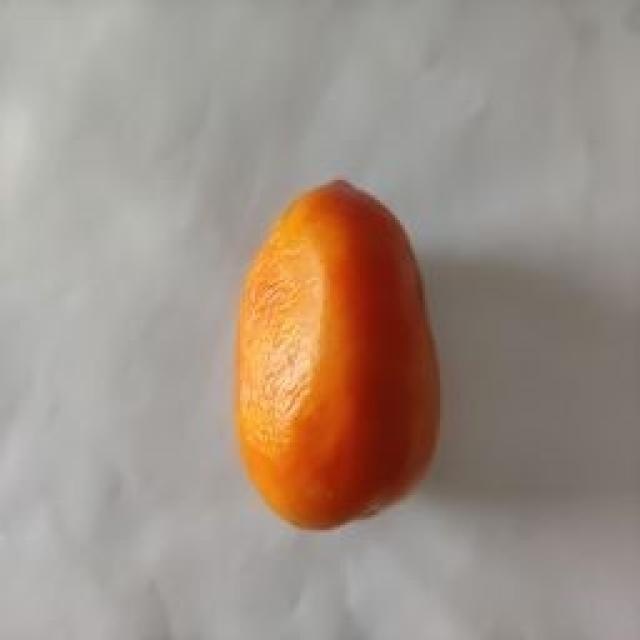Ripe: (230, 177, 445, 539)
